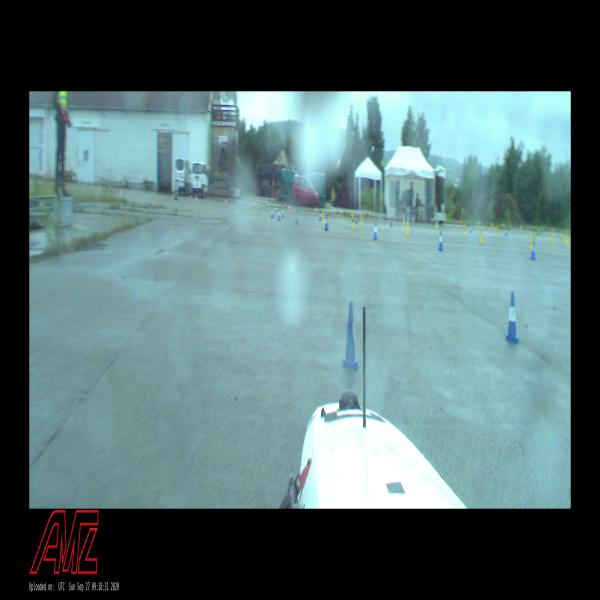blue_cone: (340, 301, 360, 371), (505, 292, 520, 343), (530, 240, 537, 260), (438, 230, 444, 251), (373, 221, 378, 240), (324, 213, 328, 232), (295, 209, 299, 225), (270, 205, 274, 218), (281, 204, 285, 217), (277, 207, 280, 221)
orange_cone: (340, 208, 343, 218), (315, 205, 318, 214), (195, 194, 198, 203), (288, 201, 290, 212), (254, 199, 256, 208), (225, 198, 227, 205)
yellow_cone: (351, 214, 355, 229)
